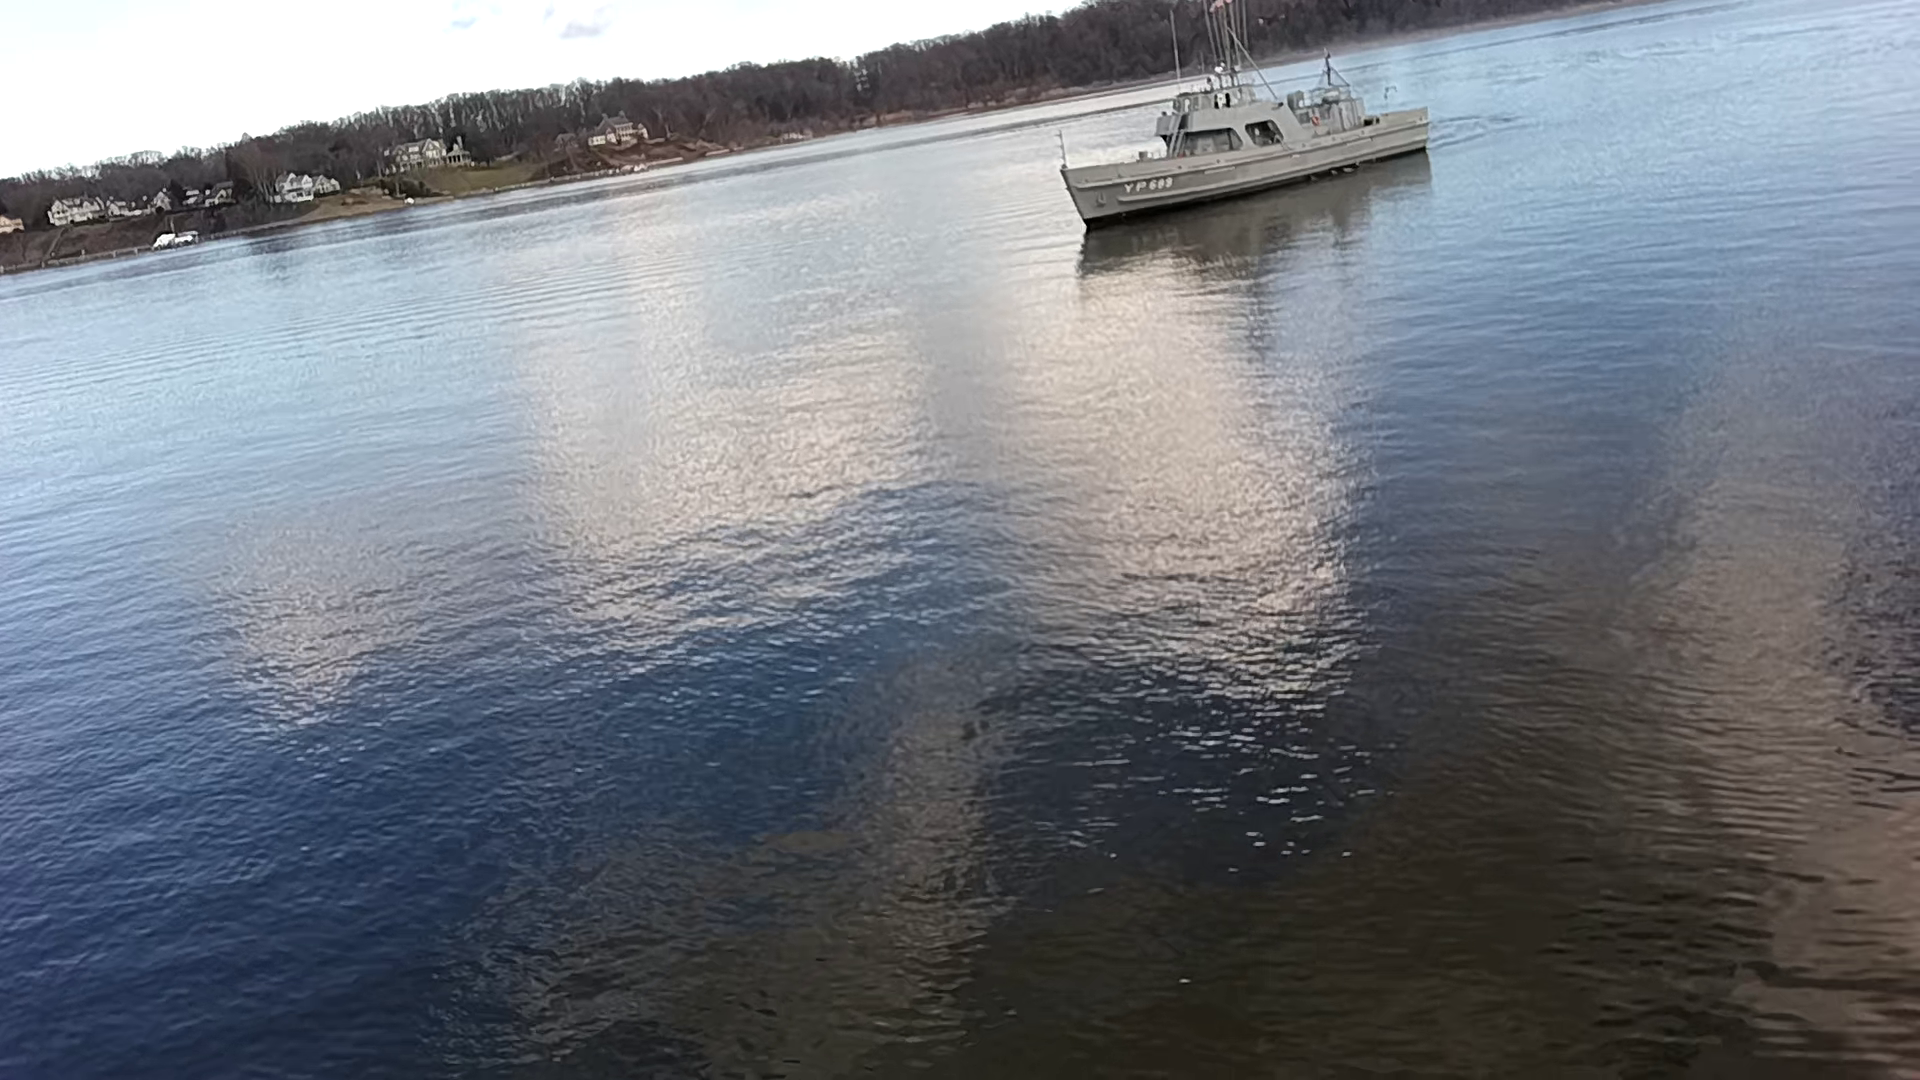YP689: (1060, 0, 1431, 225)
